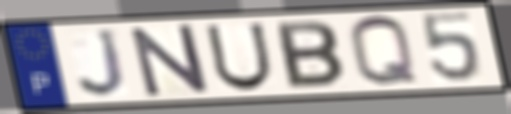5: (418, 10, 485, 87)
B: (272, 19, 347, 91)
J: (75, 27, 131, 100)
N: (127, 22, 213, 100)
Q: (345, 13, 423, 90)
U: (202, 21, 276, 93)
